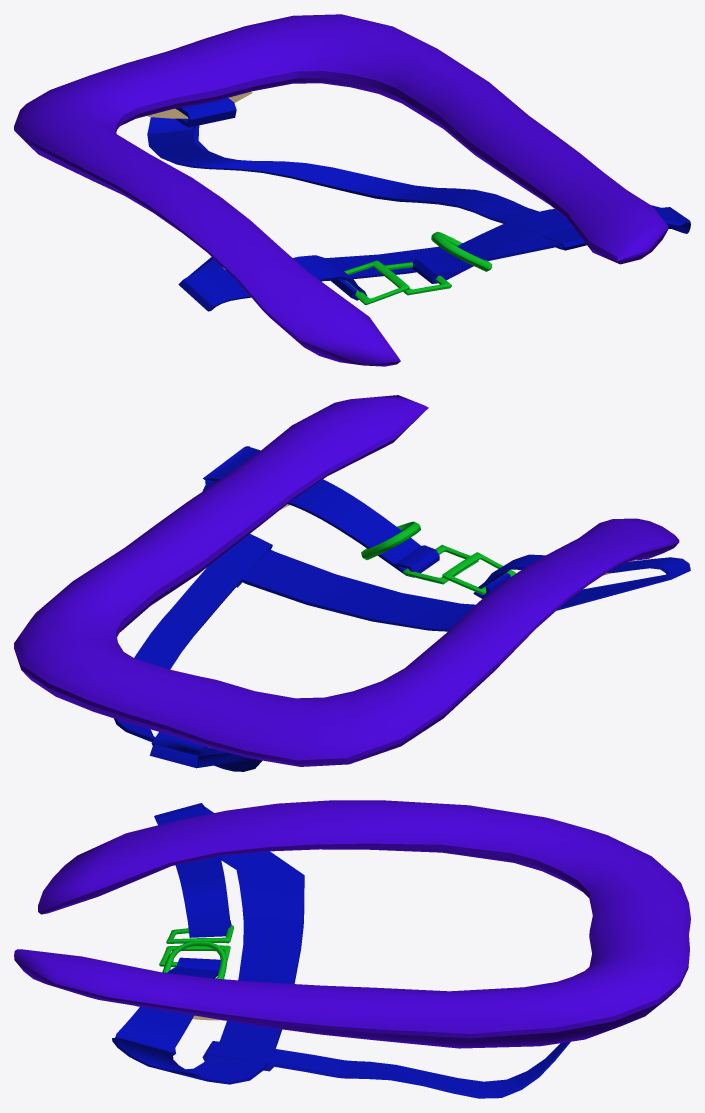
The model's file is model_ppe_lifejacket.fbx.
The picture shows the model from 3 angles, top to bottom: view 1: azimuth 30°, elevation 25°; view 2: azimuth 150°, elevation 25°; view 3: azimuth 270°, elevation 25°; orthographic projection. The views are drawn at different scales.
Parts seen in each view (by area): view 1: ppe_lifejacket; view 2: ppe_lifejacket; view 3: ppe_lifejacket.
Part boxes in pixels (x1,y1,x2,y2): ppe_lifejacket: (14,14,690,366); ppe_lifejacket: (14,395,690,771); ppe_lifejacket: (14,800,690,1098).
Size of the model in its own units: 41.59 by 12.2 by 53.39.
